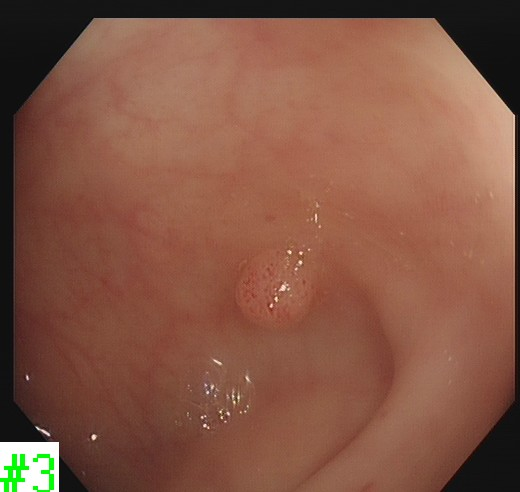adenoma: (229, 246, 316, 333)
